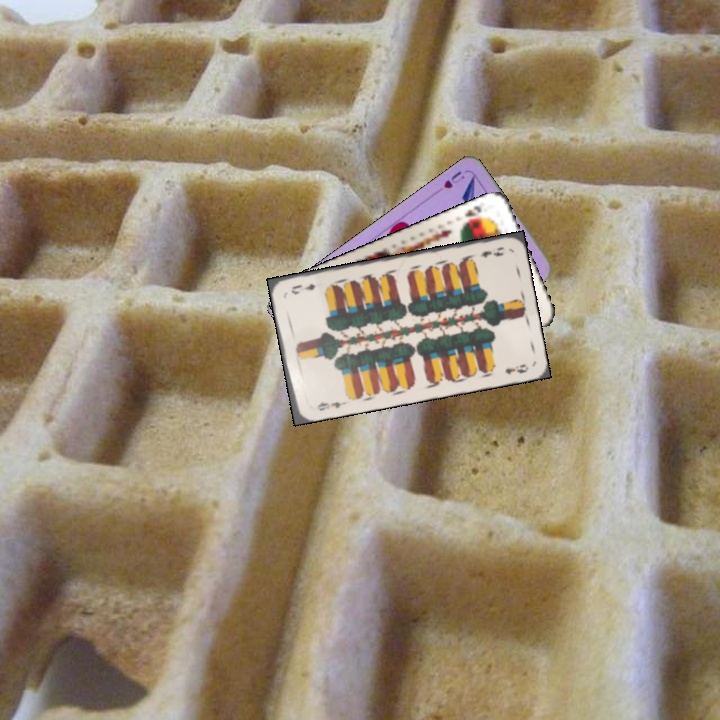E9: (312, 398, 347, 413), (476, 243, 506, 260)
HU: (439, 167, 467, 191)
SK: (458, 201, 484, 228)
